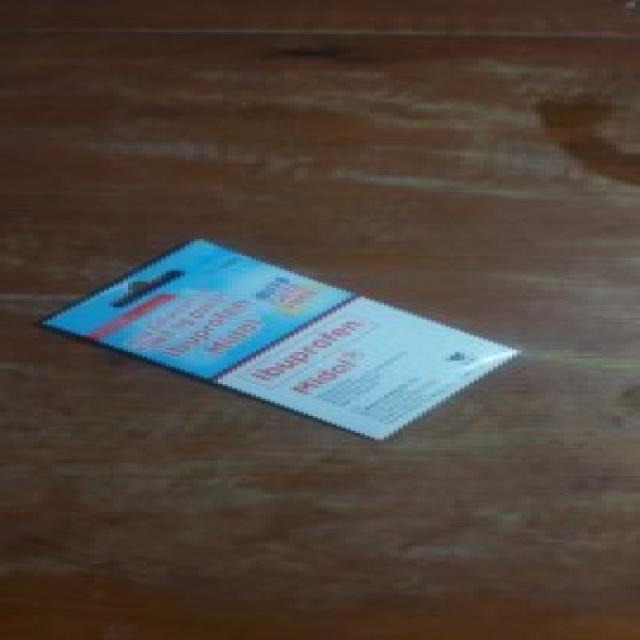Cacat: (39, 237, 524, 441)
